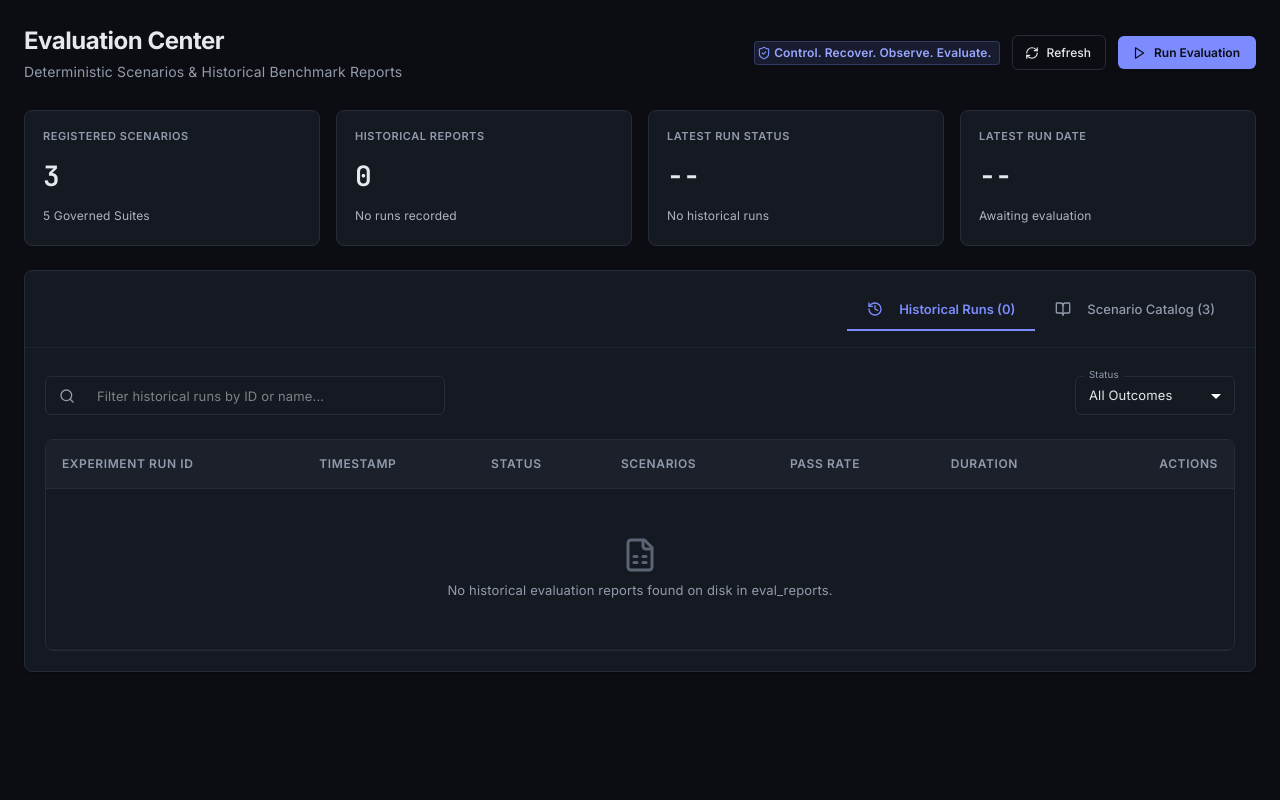
Test: EvaluationCenterPage Integration › renders Run Evaluation button and opens dialog upon click
Click the button "Run Evaluation" at [1187, 53], box [1118, 36, 1256, 69]
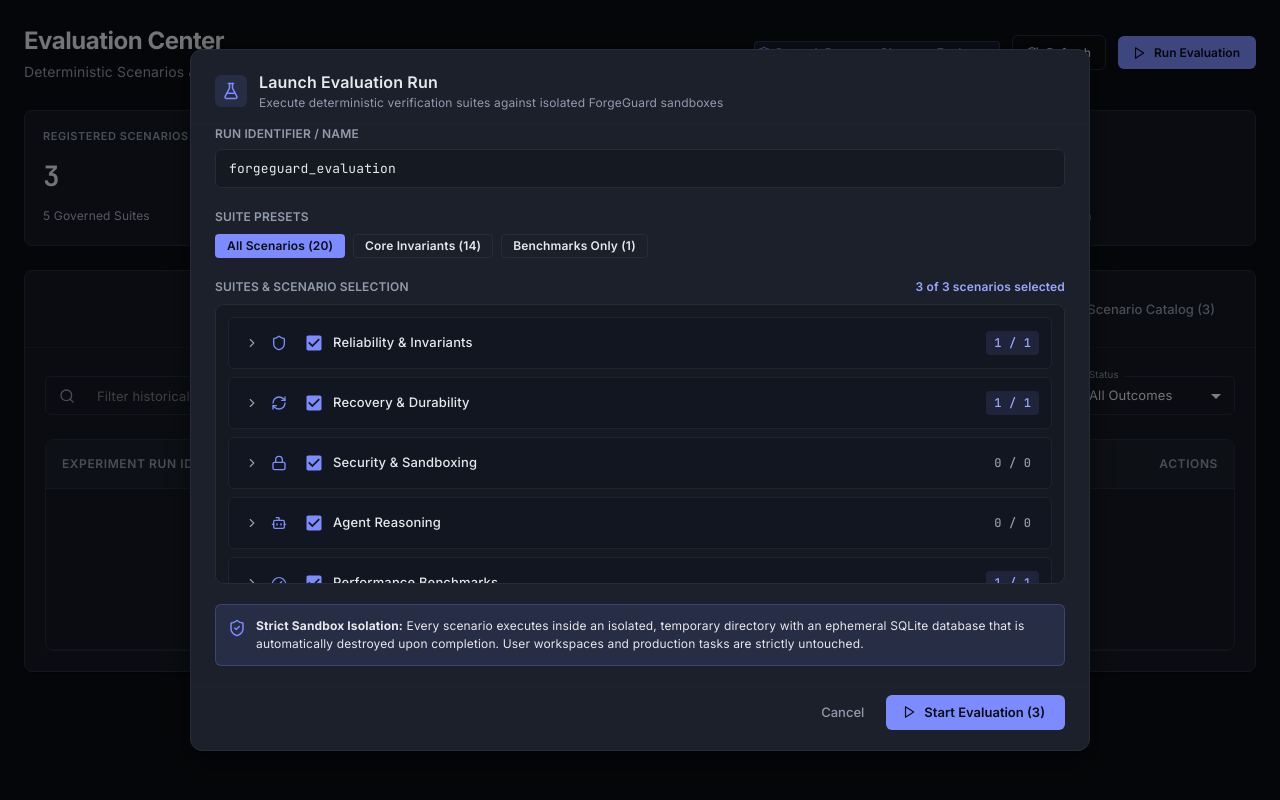
Now the text "Launch Evaluation Run" is shown, box [259, 72, 438, 92]
